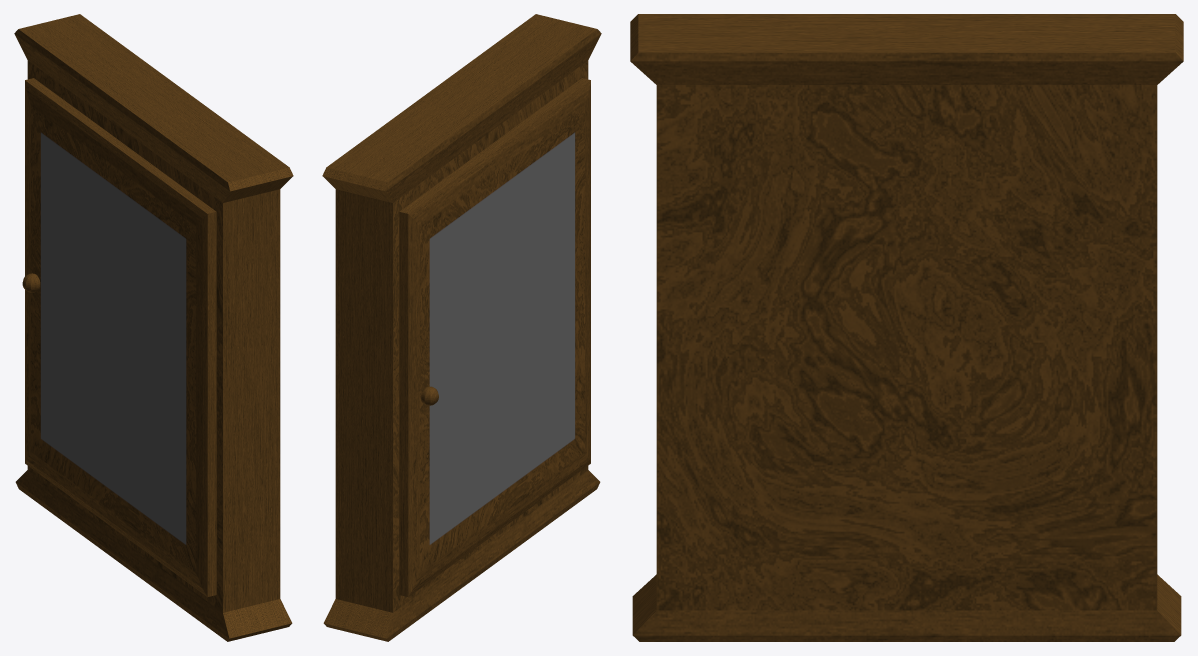
File: Bathroom_Mirror.glb
3 views of the same model, side by side, from view 1: azimuth 30°, elevation 25°; view 2: azimuth 150°, elevation 25°; view 3: azimuth 270°, elevation 25° (orthographic). The views are drawn at different scales.
Parts seen in each view (by area): view 1: Bathroom_mirror; view 2: Bathroom_mirror; view 3: Bathroom_mirror.
Boxes of the visible parts, x1,y1,x2,y2 form: Bathroom_mirror: (14,14,293,641); Bathroom_mirror: (322,14,601,641); Bathroom_mirror: (630,14,1183,641).
Bounding box in the file's own units: 3.71 × 19.3 × 16.42.
1 material, 1 textured.
